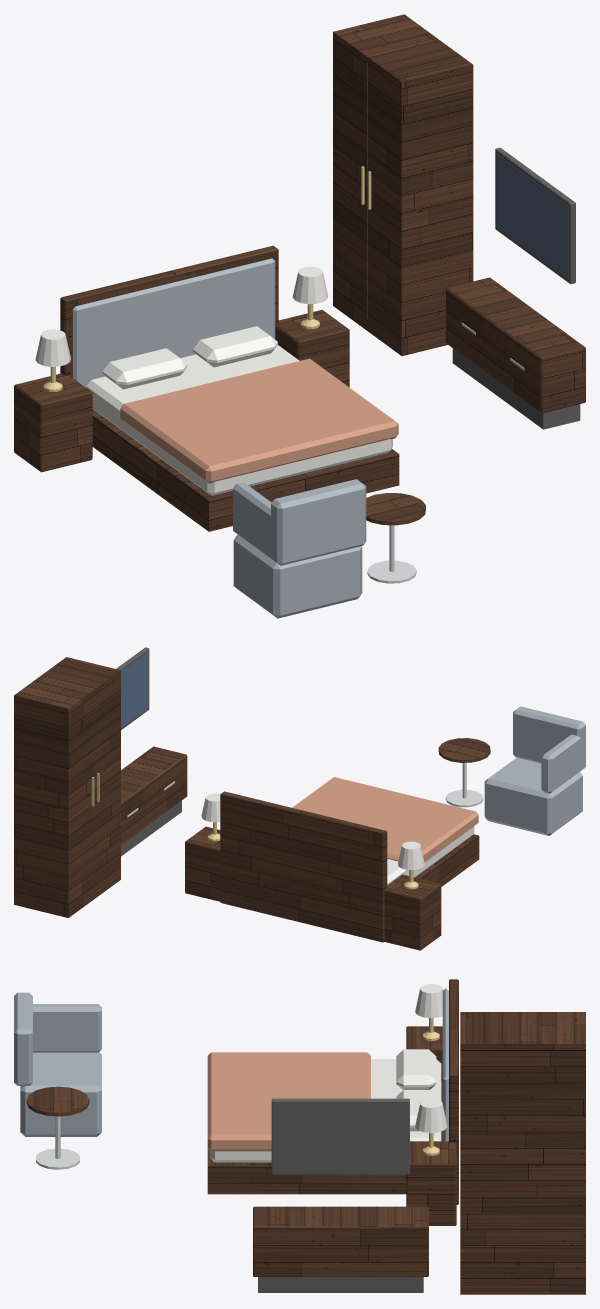
File: room_front_c.glb
3 renders of one model, top to bottom at view 1: azimuth 30°, elevation 25°; view 2: azimuth 150°, elevation 25°; view 3: azimuth 270°, elevation 25°, orthographic. The views are drawn at different scales.
Visible parts, largest first — view 1: room_front_c_dkwood, room_front_c_fabric, room_front_c_fabric2, room_front_c_linen, room_front_c_sign, room_front_c_dark, room_front_c_steel, room_front_c_gold; view 2: room_front_c_dkwood, room_front_c_fabric, room_front_c_fabric2, room_front_c_linen, room_front_c_sign, room_front_c_dark, room_front_c_steel, room_front_c_gold; view 3: room_front_c_dkwood, room_front_c_dark, room_front_c_fabric2, room_front_c_fabric, room_front_c_linen, room_front_c_steel, room_front_c_gold.
Part boxes in pixels (x1,y1,x2,y2): room_front_c_dkwood: (14, 14, 585, 531); room_front_c_fabric: (72, 258, 366, 618); room_front_c_fabric2: (120, 358, 398, 483); room_front_c_linen: (35, 266, 392, 495); room_front_c_sign: (496, 154, 568, 279); room_front_c_dark: (367, 63, 580, 429); room_front_c_steel: (367, 322, 524, 583); room_front_c_gold: (43, 166, 371, 391); room_front_c_dkwood: (14, 657, 490, 950); room_front_c_fabric: (484, 706, 585, 835); room_front_c_fabric2: (292, 777, 478, 862); room_front_c_linen: (201, 793, 474, 884); room_front_c_sign: (121, 652, 148, 727); room_front_c_dark: (94, 647, 181, 888); room_front_c_steel: (127, 762, 483, 817); room_front_c_gold: (91, 773, 418, 889); room_front_c_dkwood: (26, 979, 585, 1294); room_front_c_dark: (258, 1098, 423, 1292); room_front_c_fabric2: (207, 1052, 370, 1151); room_front_c_fabric: (14, 988, 448, 1141); room_front_c_linen: (210, 983, 447, 1162); room_front_c_steel: (36, 1116, 79, 1169); room_front_c_gold: (423, 1018, 439, 1155).
Bounding box in the file's own units: 3.88 × 2.2 × 4.55.
8 materials, 1 textured.
